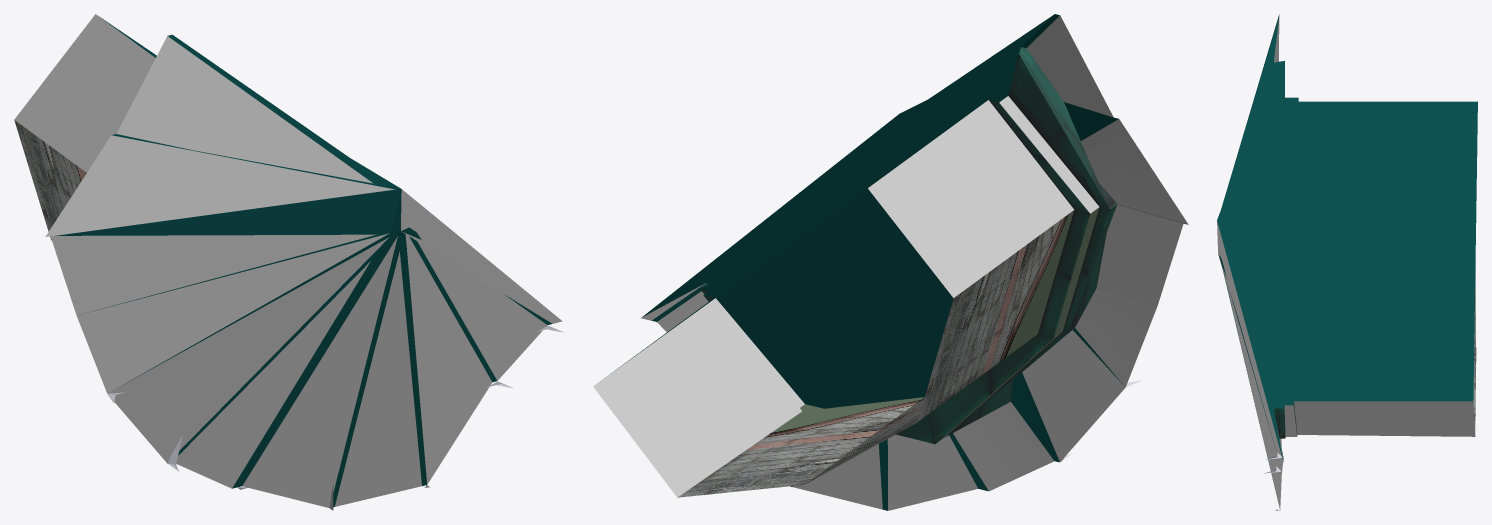
Rendered from valli1a-origo.obj.
3 renders of one model, left to right at view 1: azimuth 30°, elevation 25°; view 2: azimuth 150°, elevation 25°; view 3: azimuth 270°, elevation 25°, orthographic. The views are drawn at different scales.
Visible parts, largest first — view 1: polySurface1; view 2: polySurface1; view 3: polySurface1.
Part boxes in pixels (left/top/right/bottom): polySurface1: left=14, top=14, right=563, bottom=510; polySurface1: left=593, top=14, right=1188, bottom=510; polySurface1: left=1217, top=14, right=1477, bottom=510.
Size of the model in its own units: 6.38 by 6 by 3.56.
